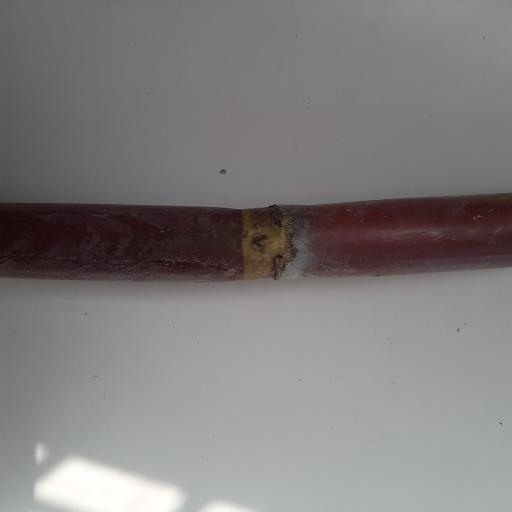Bud: (250, 231, 274, 256)
